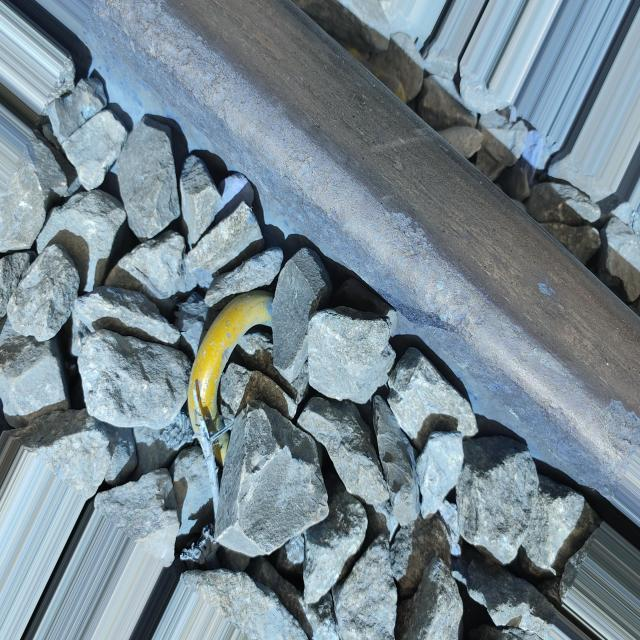Good Fasteners: (188, 290, 271, 433)
